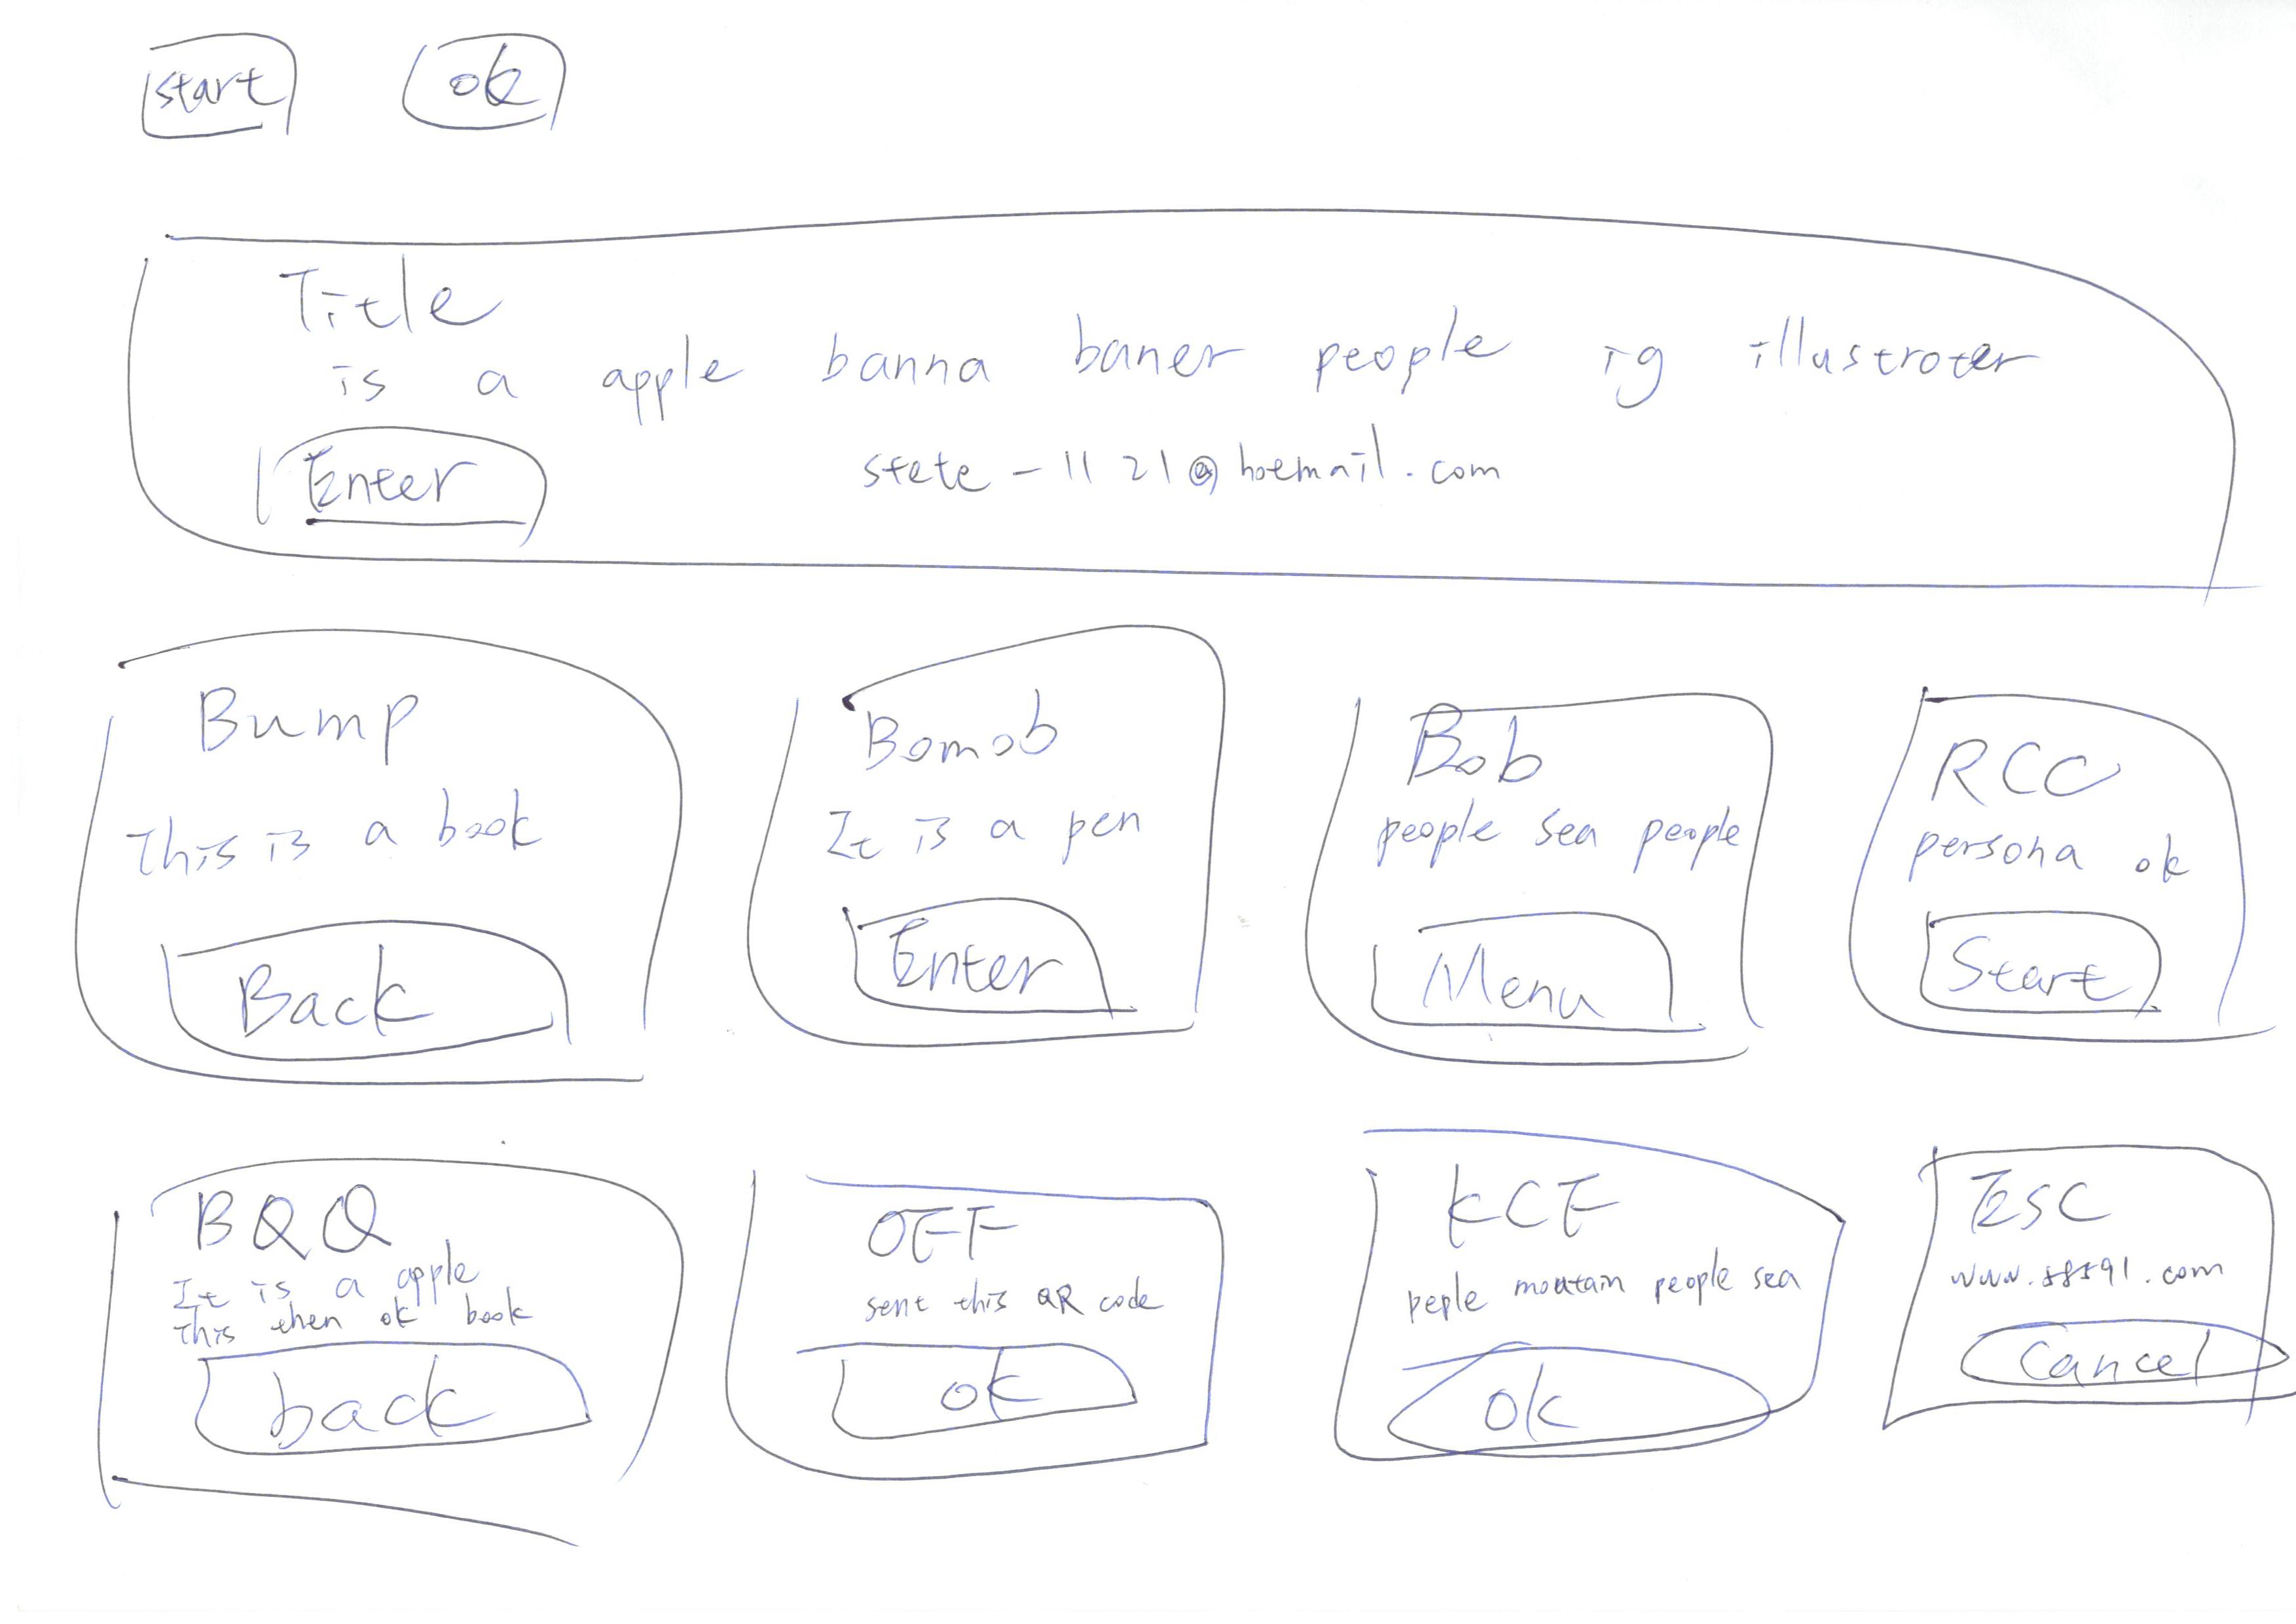back: (153, 891, 585, 1060), (162, 1343, 626, 1471)
btn-active: (1384, 1329, 1849, 1492), (230, 401, 601, 550), (816, 1323, 1162, 1457), (833, 891, 1164, 1021), (387, 23, 610, 156)
cancel: (1957, 1308, 2296, 1424)
menu: (1347, 889, 1725, 1060)
quadruple: (62, 591, 703, 1134), (79, 1130, 694, 1573), (738, 596, 1271, 1104), (1287, 1118, 1865, 1536), (1297, 671, 1827, 1106), (710, 1130, 1268, 1527), (1844, 668, 2296, 1076), (1872, 1121, 2296, 1468)
row: (16, 584, 2296, 1146), (39, 176, 2296, 640), (35, 1100, 2296, 1519), (60, 5, 2296, 181)
single: (98, 170, 2270, 626)
small-title: (169, 671, 447, 789), (849, 678, 1095, 791), (287, 246, 506, 344), (1447, 1153, 1633, 1251), (1944, 715, 2136, 803), (858, 1179, 1027, 1276), (167, 1181, 383, 1246), (1396, 715, 1540, 796), (1976, 1153, 2111, 1232)
start: (1915, 903, 2199, 1042), (113, 19, 311, 160)
text: (304, 313, 2052, 406), (851, 422, 1600, 548), (803, 777, 1155, 882), (1406, 1255, 1798, 1341), (158, 1264, 549, 1350), (1384, 793, 1770, 875), (130, 798, 564, 868), (853, 1285, 1187, 1332), (1964, 1258, 2240, 1309)
